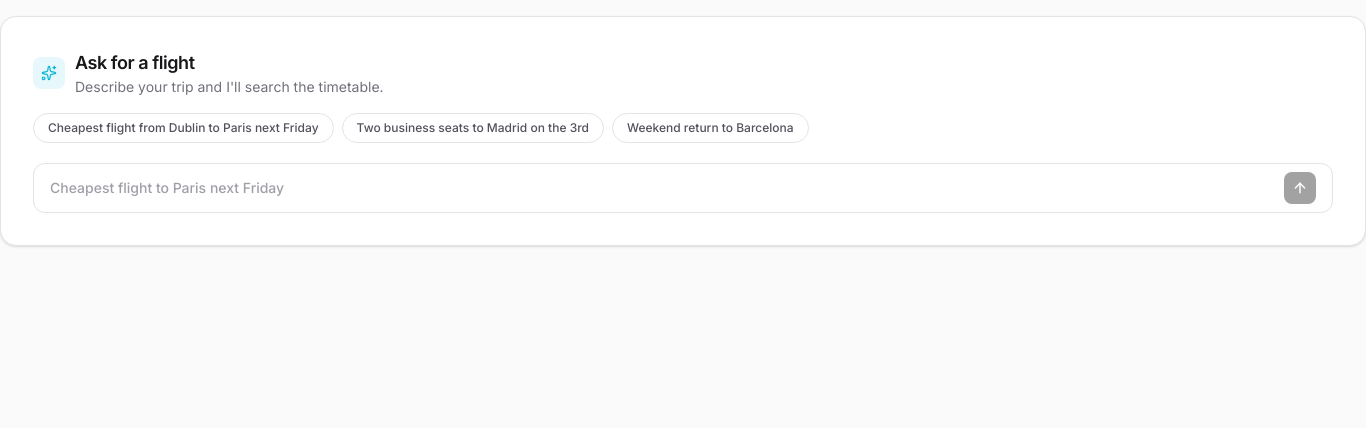
Test: AssistantChat › answers › shows how the sentence was read
Type "cheapest flight to Paris next Friday" into the field named "Describe your trip" at (663, 188), box [50, 174, 1276, 202]
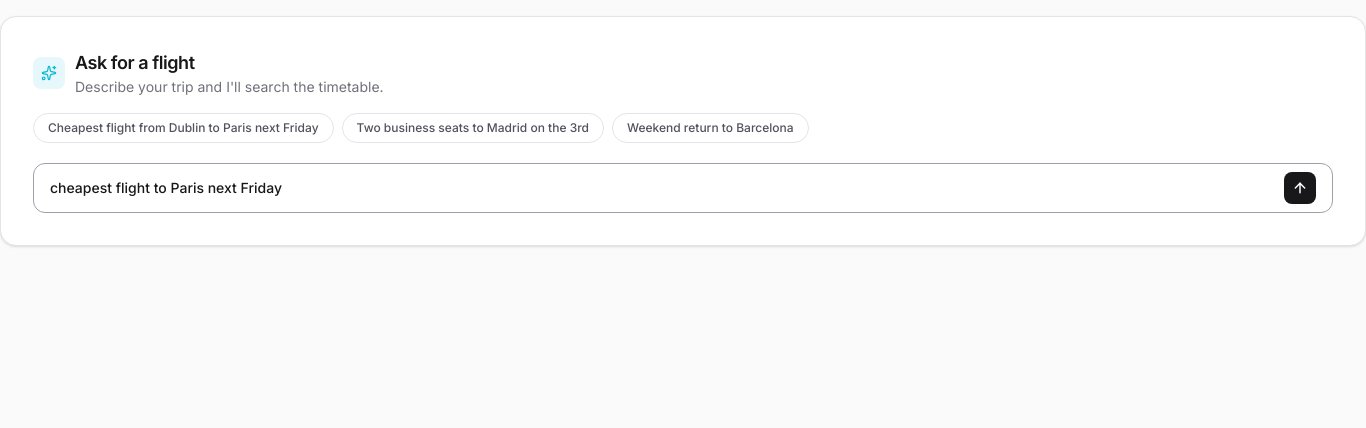
Click the button named "Send" at (1300, 188), box [1284, 172, 1316, 204]
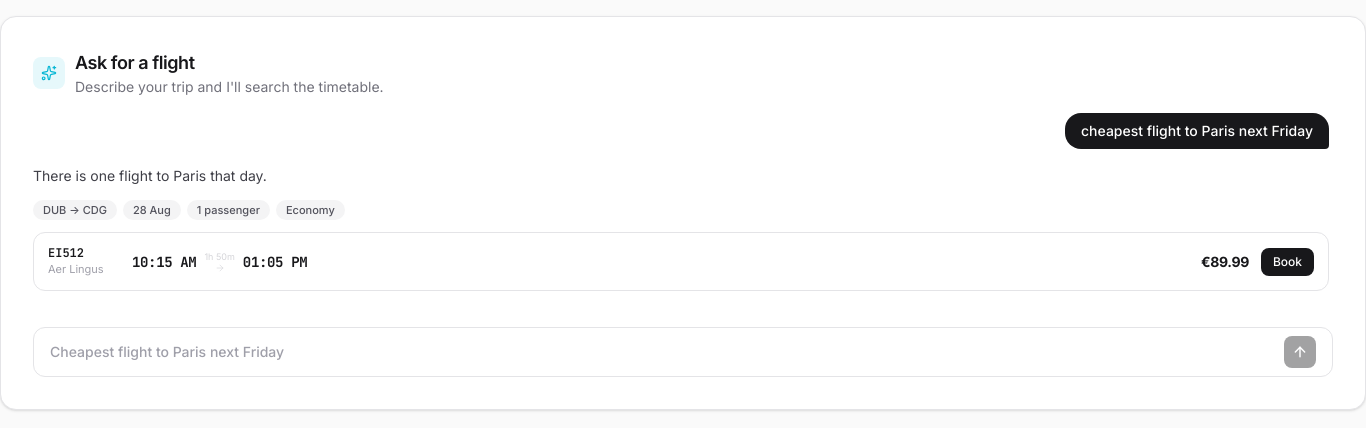
expect the text "DUB → CDG" is shown: met, box [33, 200, 117, 220]
expect the text "1 passenger" is shown: met, box [187, 200, 270, 220]
expect the text "Economy" is shown: met, box [276, 200, 345, 220]
